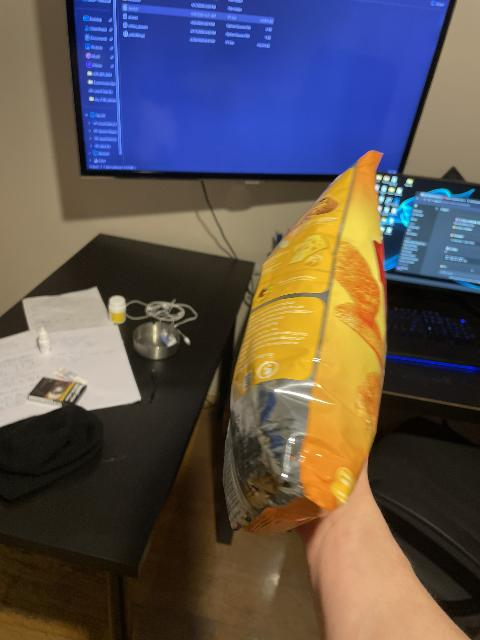Chio Cascaval 125g: (228, 162, 383, 530)
